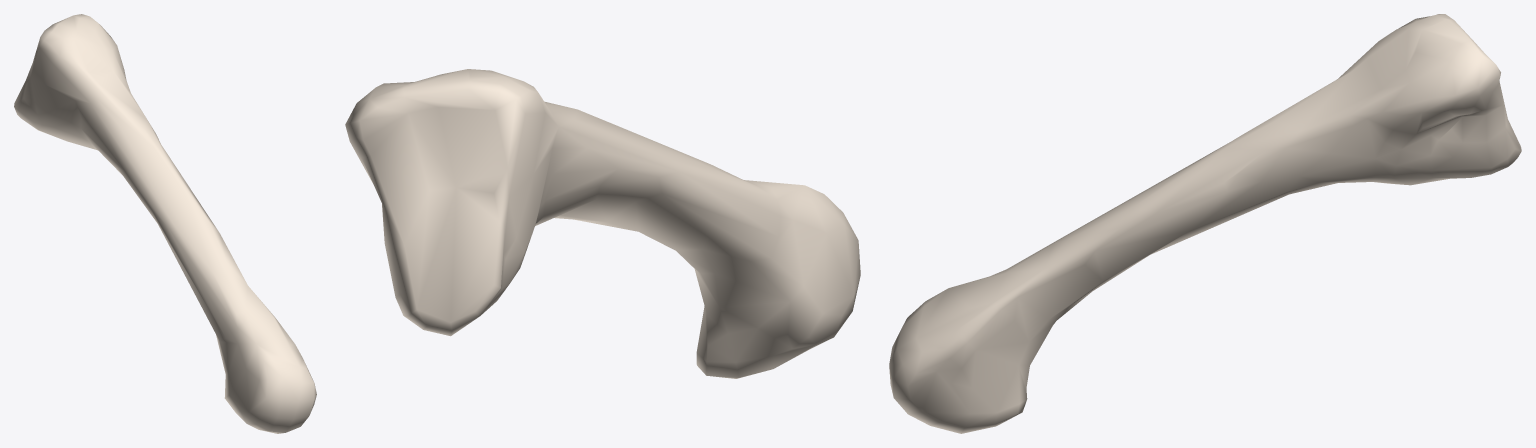
The model's file is left_metatarsal_2.glb.
3 views of the same model, side by side, from view 1: azimuth 30°, elevation 25°; view 2: azimuth 150°, elevation 25°; view 3: azimuth 270°, elevation 25° (orthographic). The views are drawn at different scales.
Parts seen in each view (by area): view 1: Second metatarsal bone.r; view 2: Second metatarsal bone.r; view 3: Second metatarsal bone.r.
Part boxes in pixels (bbox=[...]): Second metatarsal bone.r: bbox=[14, 14, 316, 433]; Second metatarsal bone.r: bbox=[345, 69, 860, 378]; Second metatarsal bone.r: bbox=[889, 14, 1521, 433].
Size of the model in its own units: 0.0123 by 0.0365 by 0.0544.
